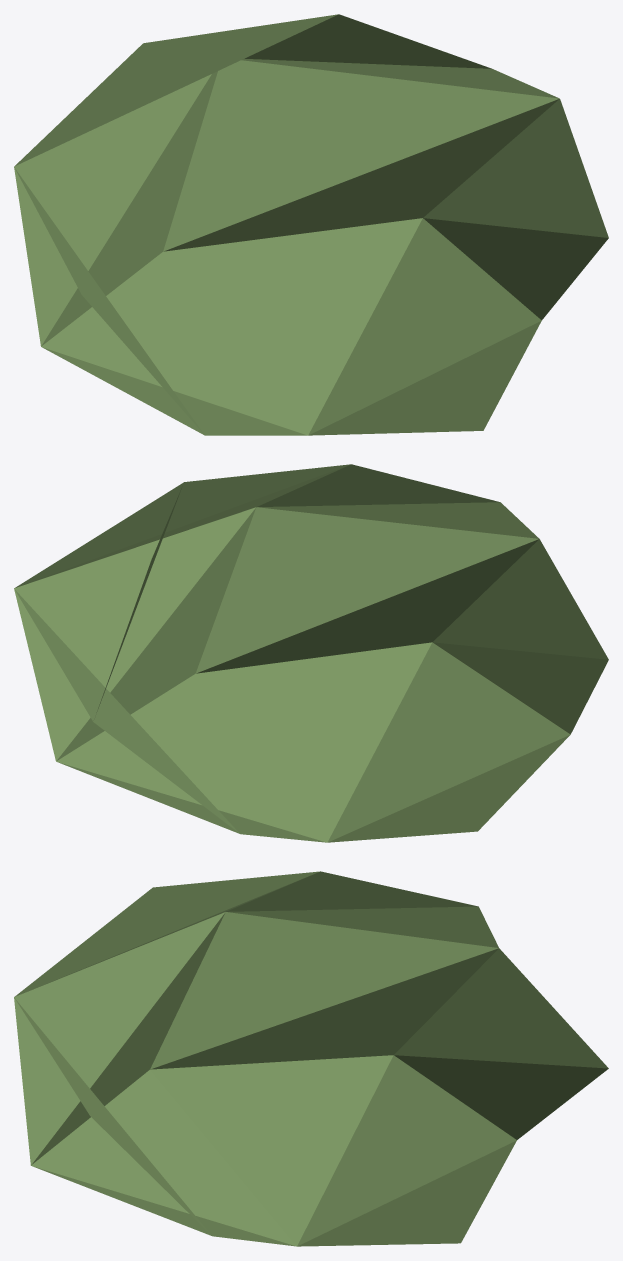
Rendered from bush_3.glb.
3 renders of one model, top to bottom at view 1: azimuth 30°, elevation 25°; view 2: azimuth 150°, elevation 25°; view 3: azimuth 270°, elevation 25°, orthographic. The views are drawn at different scales.
Size of the model in its own units: 2.51 by 1.6 by 2.5.
